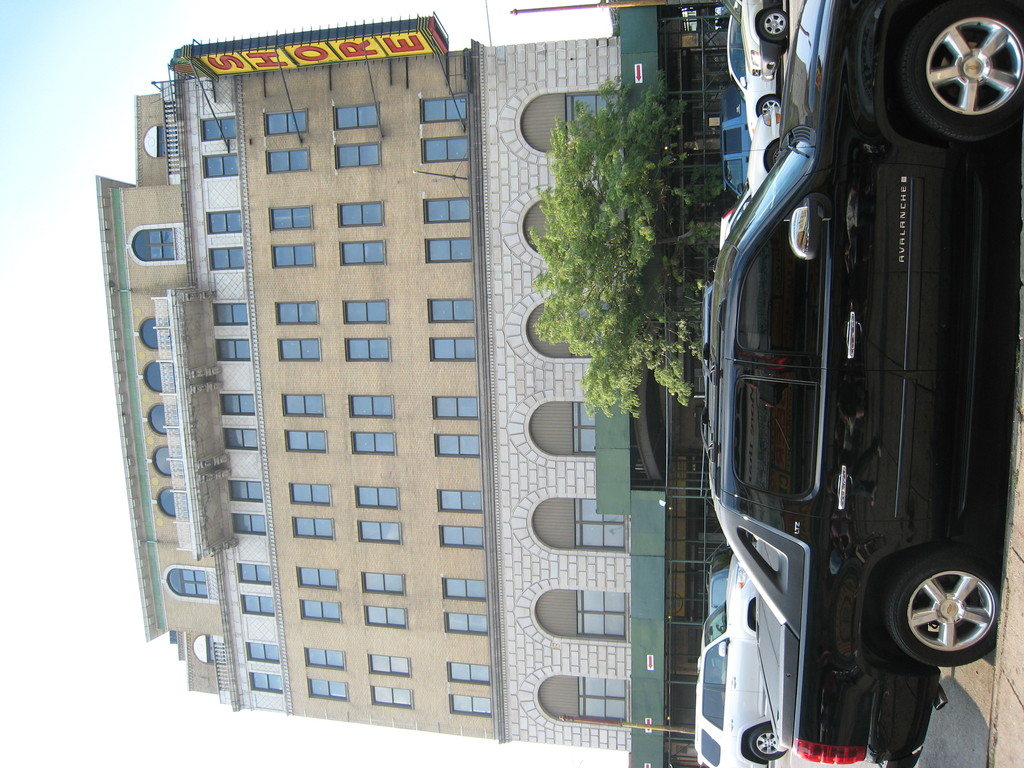Car: (697, 0, 1023, 767), (696, 543, 787, 767), (728, 3, 778, 139), (726, 0, 789, 80), (744, 107, 780, 201), (722, 85, 744, 199), (711, 568, 727, 641), (728, 193, 751, 241), (721, 205, 739, 251)
